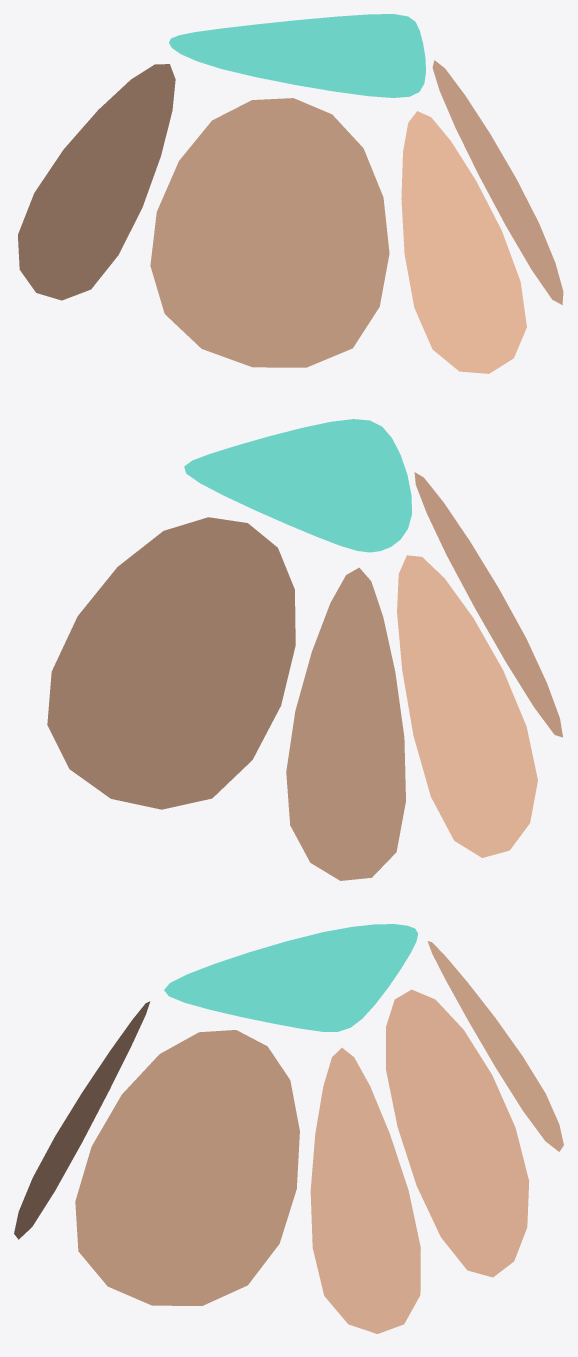
The model's file is rock_smallB.glb.
3 views of the same model, one above another, from view 1: azimuth 30°, elevation 25°; view 2: azimuth 150°, elevation 25°; view 3: azimuth 270°, elevation 25° (orthographic). The views are drawn at different scales.
Parts seen in each view (by area): view 1: rock_smallB; view 2: rock_smallB; view 3: rock_smallB.
Boxes of the visible parts, x1,y1,x2,y2 form: rock_smallB: [18, 14, 563, 373]; rock_smallB: [47, 419, 562, 880]; rock_smallB: [14, 924, 563, 1333].
Size of the model in its own units: 0.3528 by 0.1768 by 0.3528.
